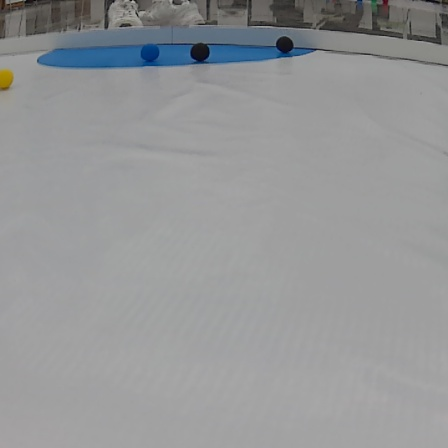black: (187, 40, 212, 63), (275, 35, 296, 55)
blue: (140, 42, 162, 63)
blue_base: (34, 44, 330, 71)
yellow: (0, 68, 19, 91)
